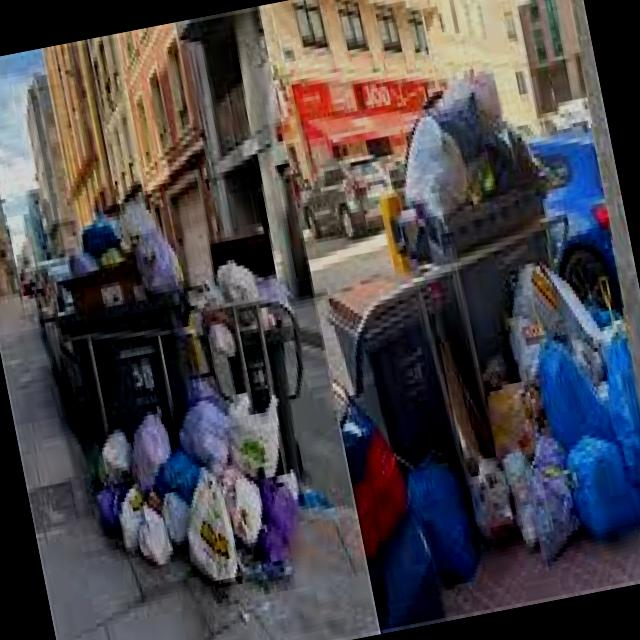garbage: (276, 29, 640, 595), (29, 162, 348, 622)
